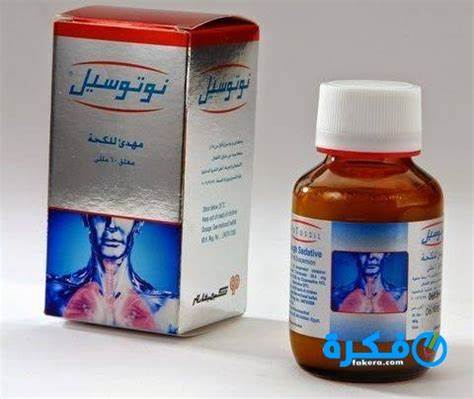Medicine: (43, 8, 267, 346), (280, 72, 459, 387)
